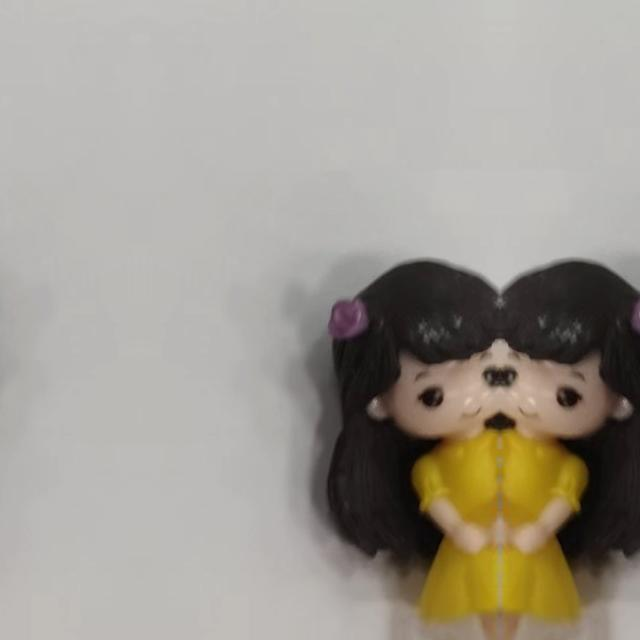woman dress: (402, 431, 500, 640), (500, 431, 598, 640)
woman head: (322, 250, 500, 444), (500, 249, 640, 444)
